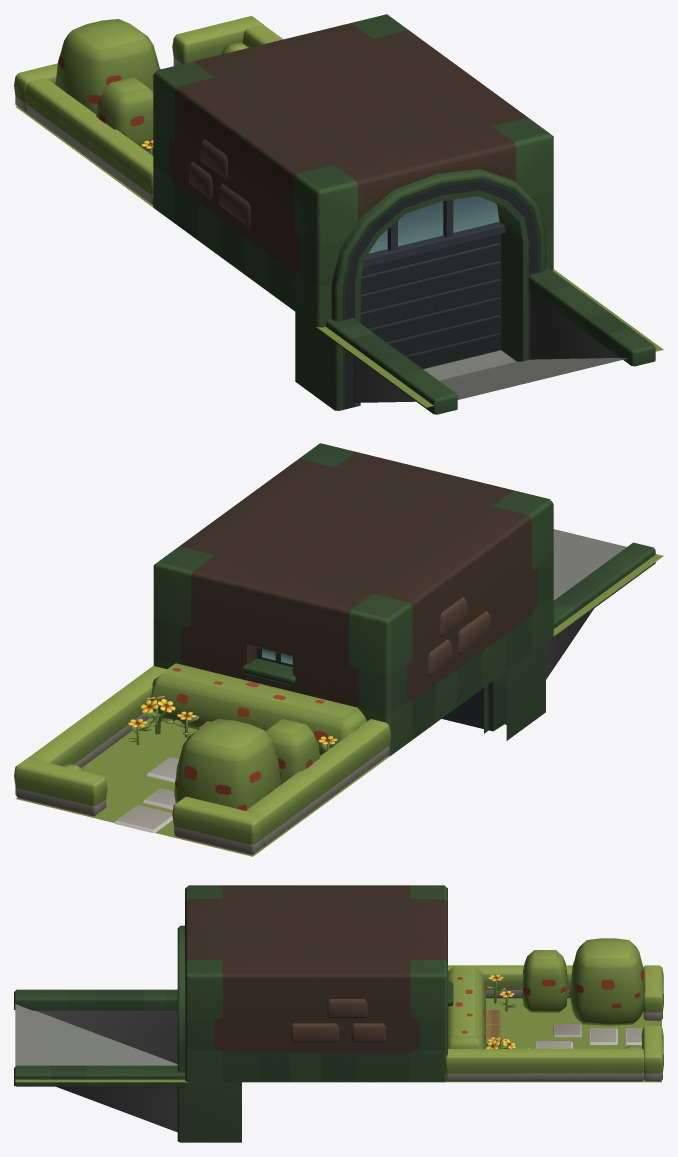
File: garage_ground_brown.fbx
3 renders of one model, top to bottom at view 1: azimuth 30°, elevation 25°; view 2: azimuth 150°, elevation 25°; view 3: azimuth 270°, elevation 25°, orthographic. The views are drawn at different scales.
Visible parts, largest first — view 1: garage_ground_brown, door_garage; view 2: garage_ground_brown; view 3: garage_ground_brown.
Boxes of the visible parts, box(x1,y1,x2,y2) form: garage_ground_brown: box(14, 14, 663, 414); door_garage: box(360, 234, 501, 368); garage_ground_brown: box(14, 443, 663, 856); garage_ground_brown: box(14, 885, 663, 1142).
Size of the model in its own units: 619 by 533 by 1809.
